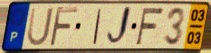3: (164, 6, 187, 48)
F: (47, 5, 79, 48), (134, 7, 166, 47)
I: (91, 7, 103, 46)
J: (105, 4, 133, 48)
U: (26, 6, 55, 47)
